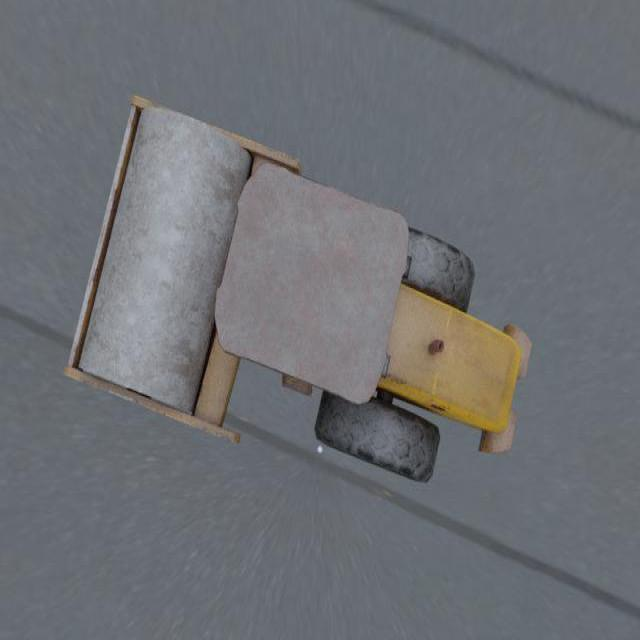Roller: (63, 95, 532, 482)
